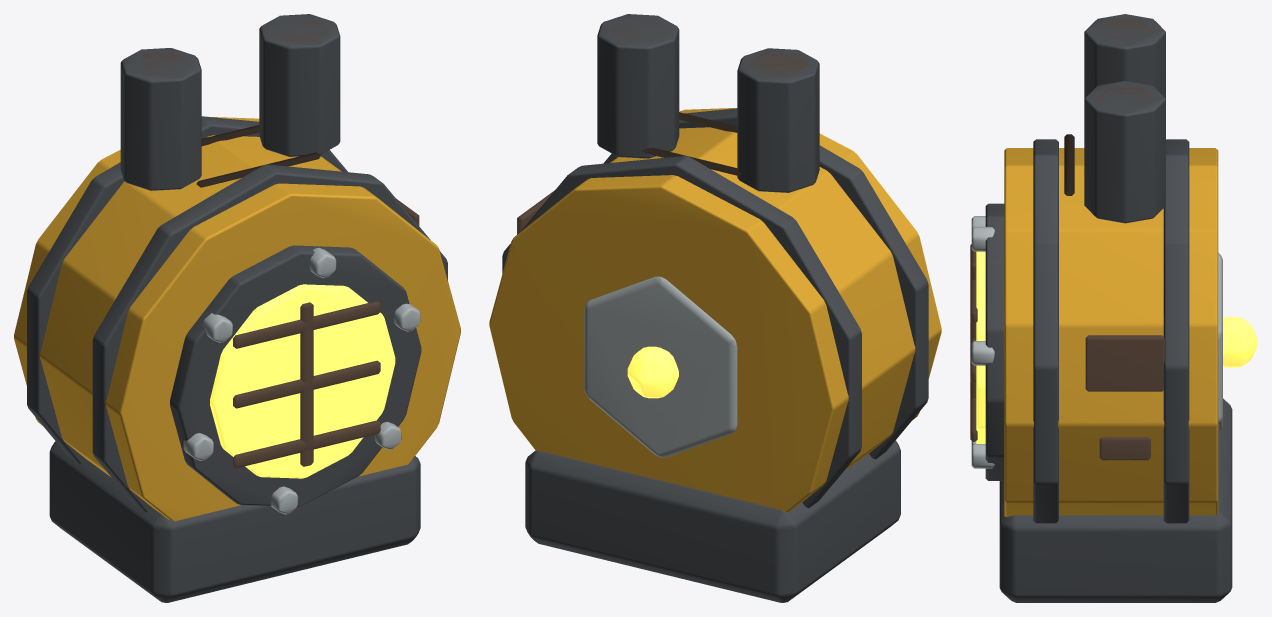
Rendered from grumble_co_furnace_pack.glb.
3 views of the same model, side by side, from view 1: azimuth 30°, elevation 25°; view 2: azimuth 150°, elevation 25°; view 3: azimuth 270°, elevation 25° (orthographic). The views are drawn at different scales.
Visible parts, largest first — view 1: grumble_co_furnace_pack; view 2: grumble_co_furnace_pack; view 3: grumble_co_furnace_pack.
Part boxes in pixels (x1=…): grumble_co_furnace_pack: x1=14, y1=14, x2=460, y2=602; grumble_co_furnace_pack: x1=489, y1=14, x2=941, y2=602; grumble_co_furnace_pack: x1=970, y1=14, x2=1257, y2=602.
Size of the model in its own units: 0.8464 by 1.14 by 0.6176.
1 material, 1 textured.
